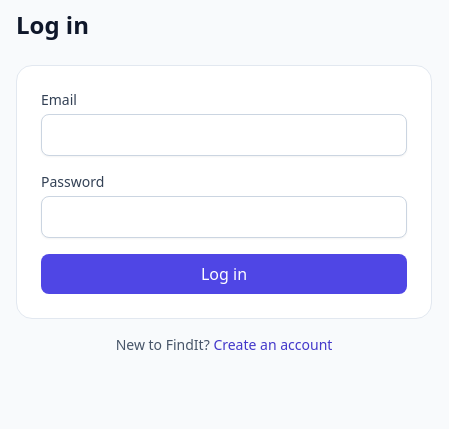
Test case: Login form › shows the server error message when login fails
Type "asha@example.com" into the field labelled "Email". click: (224, 135)
box: [41, 114, 407, 156]
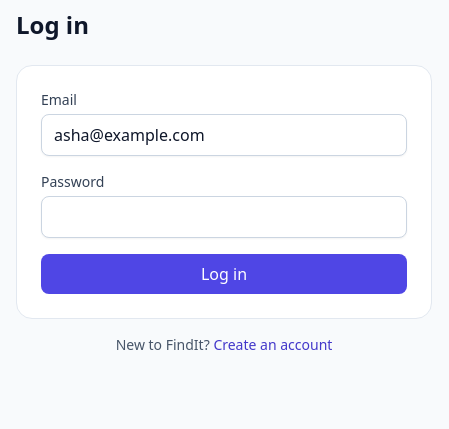
Type "wrongpass1" into the password field labelled "Password". click: (224, 217)
box: [41, 196, 407, 238]
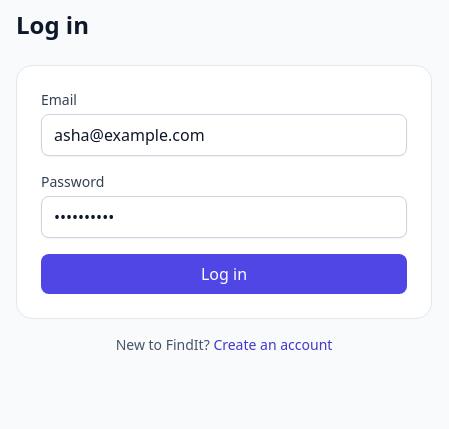
Click the button "Log in". click: (224, 274)
box: [41, 254, 407, 294]
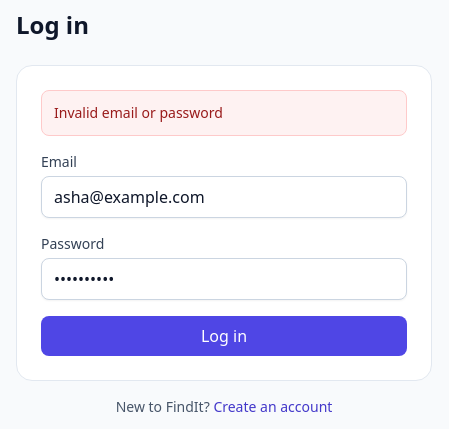
Now the message reads "Invalid email or password", box [54, 103, 223, 122]
